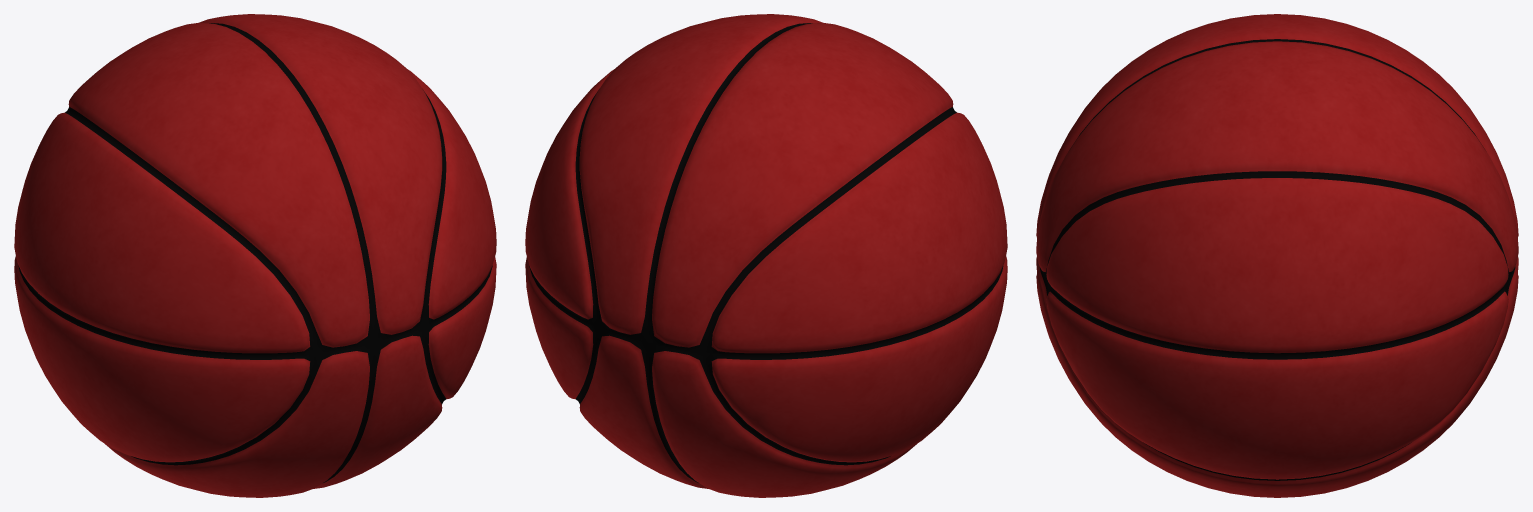
The model's file is Basket ball.fbx.
The picture shows the model from 3 angles, left to right: view 1: azimuth 30°, elevation 25°; view 2: azimuth 150°, elevation 25°; view 3: azimuth 270°, elevation 25°; orthographic projection.
Parts seen in each view (by area): view 1: basket ball; view 2: basket ball; view 3: basket ball.
Part boxes in pixels (x1,y1,x2,y2): basket ball: (14,14,496,497); basket ball: (525,14,1007,497); basket ball: (1036,14,1518,497).
Bounding box in the file's own units: 19.32 × 19.32 × 19.32.
Materials: 2 (1 with a texture image).
